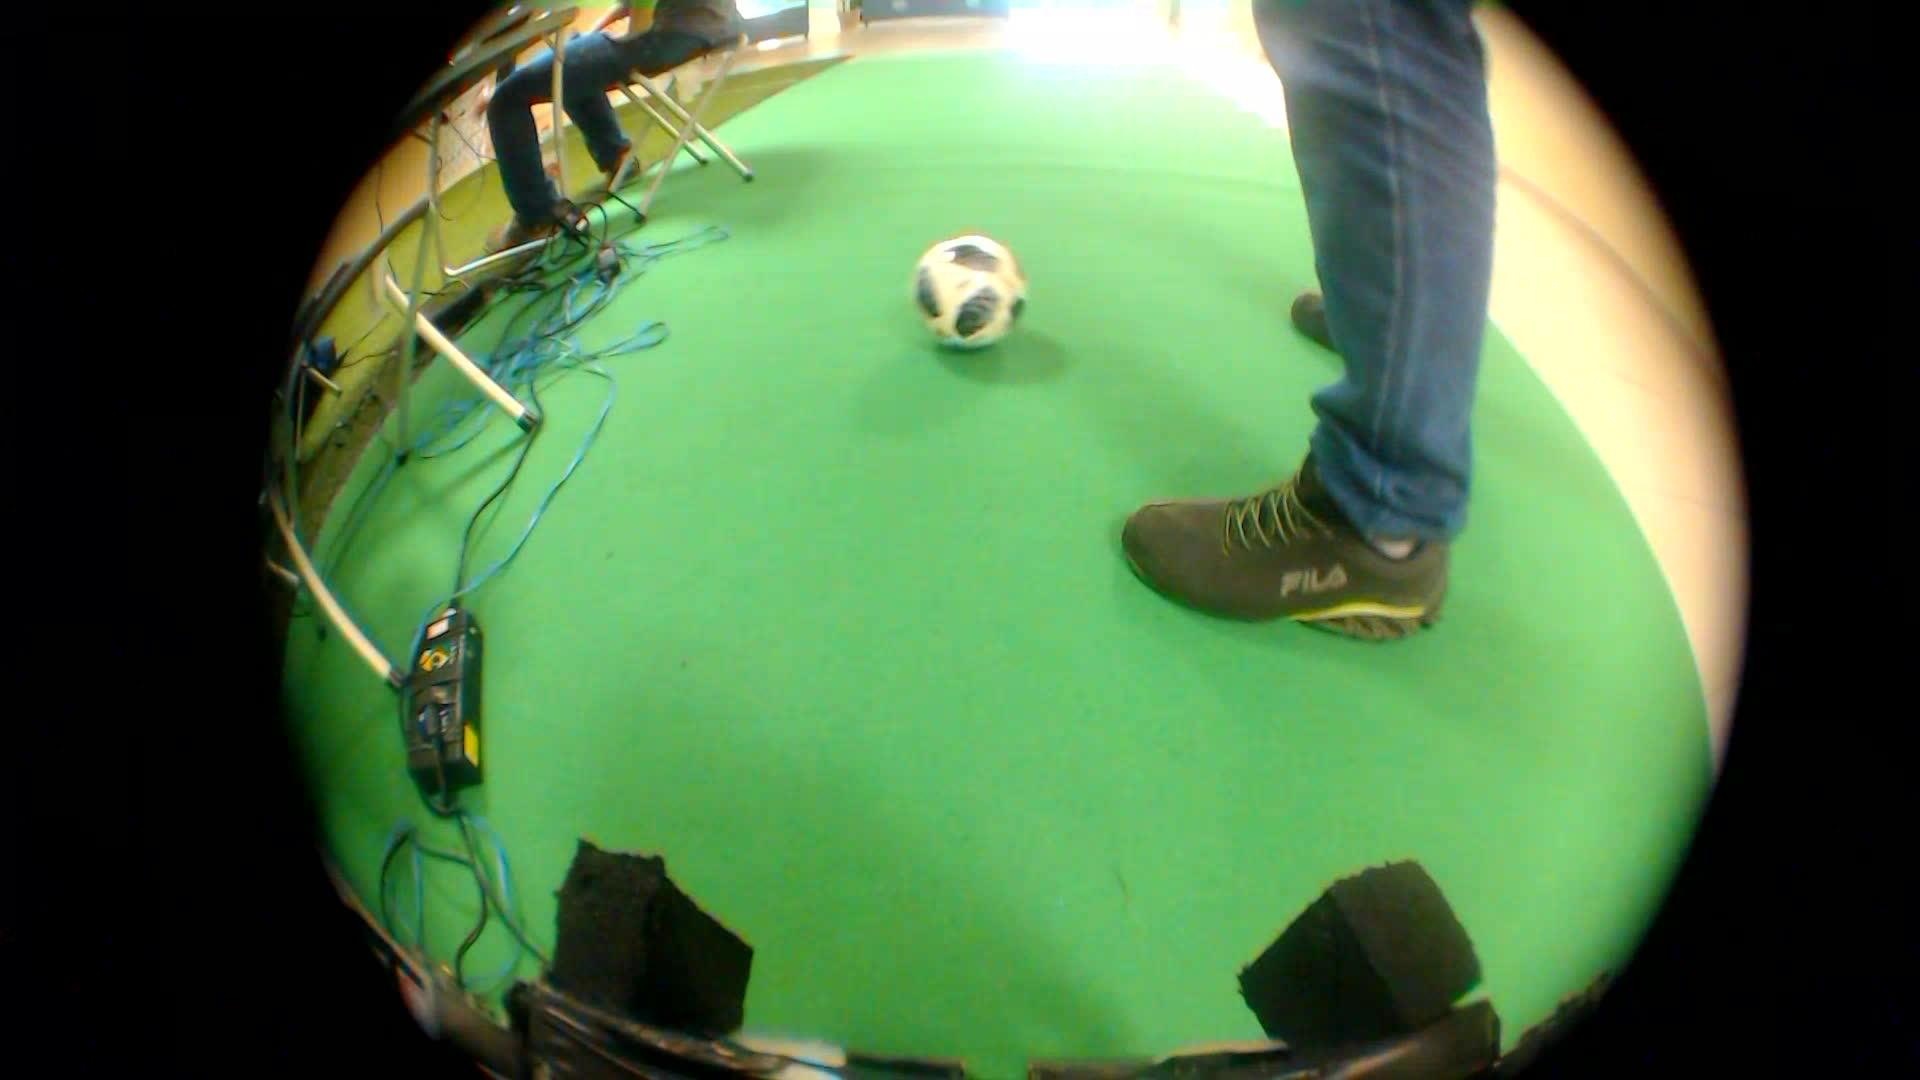ball: (894, 218, 1044, 359)
